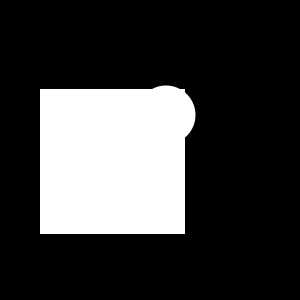circle: (40, 89, 185, 234)
rectangle: (136, 86, 195, 144)
